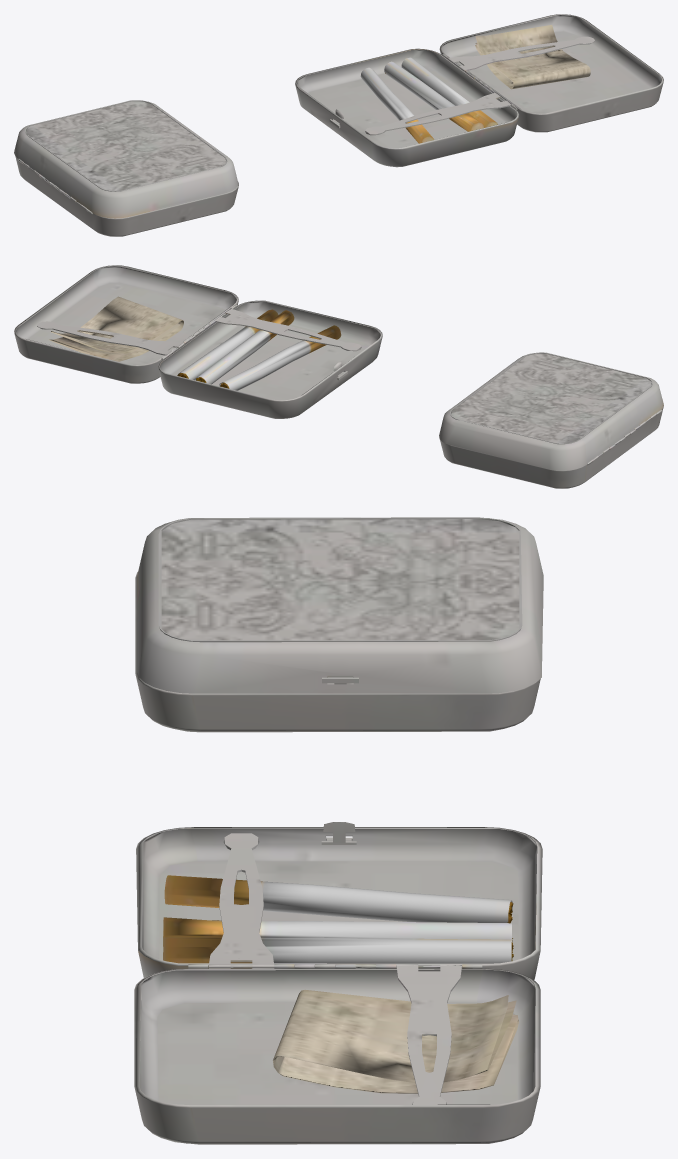
The model's file is cigarette_case.glb.
3 views of the same model, one above another, from view 1: azimuth 30°, elevation 25°; view 2: azimuth 150°, elevation 25°; view 3: azimuth 270°, elevation 25° (orthographic). The views are drawn at different scales.
Visible parts, largest first — view 1: cigarette_case_cover_b; view 2: cigarette_case_cover_b; view 3: cigarette_case_cover_b.
Boxes of the visible parts, x1,y1,x2,y2 form: cigarette_case_cover_b: (14, 14, 663, 236); cigarette_case_cover_b: (14, 265, 663, 488); cigarette_case_cover_b: (134, 517, 543, 1144).
Bounding box in the file's own units: 0.3233 × 0.0245 × 0.1007.
Materials: 1 (1 with a texture image).
